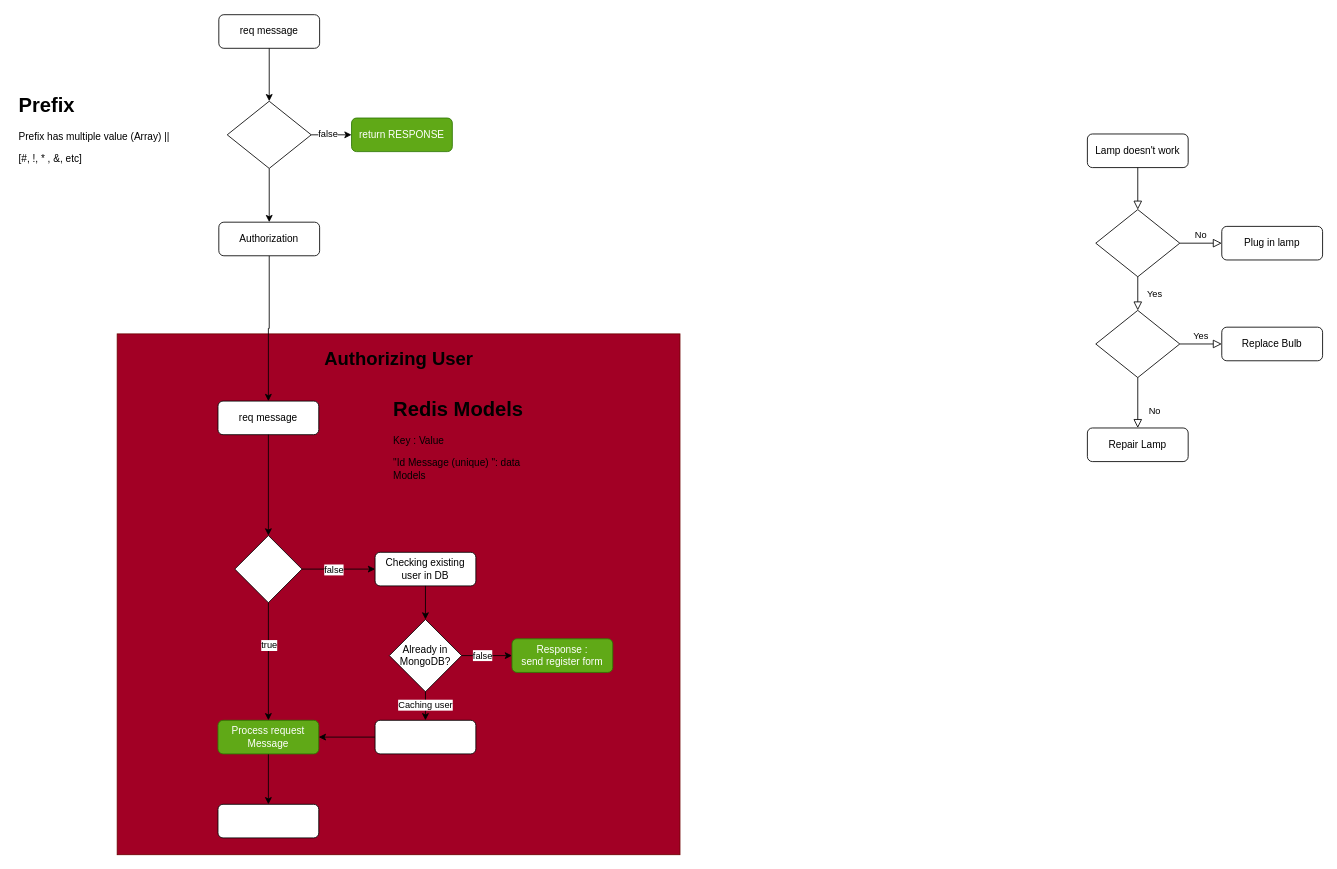
This 1337x869 diagram has some shape labels left out. Here are the shapes that lost their labels. From the top down, the centre of each, then its label:
At point 268,134: "isPrefix?".
At point 1137,243: "Lamp plugged in?".
At point 1137,344: "Bulb burned out?".
At point 268,569: "Already in Redis ?".
At point 425,736: "Save to Redis DB".
At point 268,820: "Message Handler : Message".
